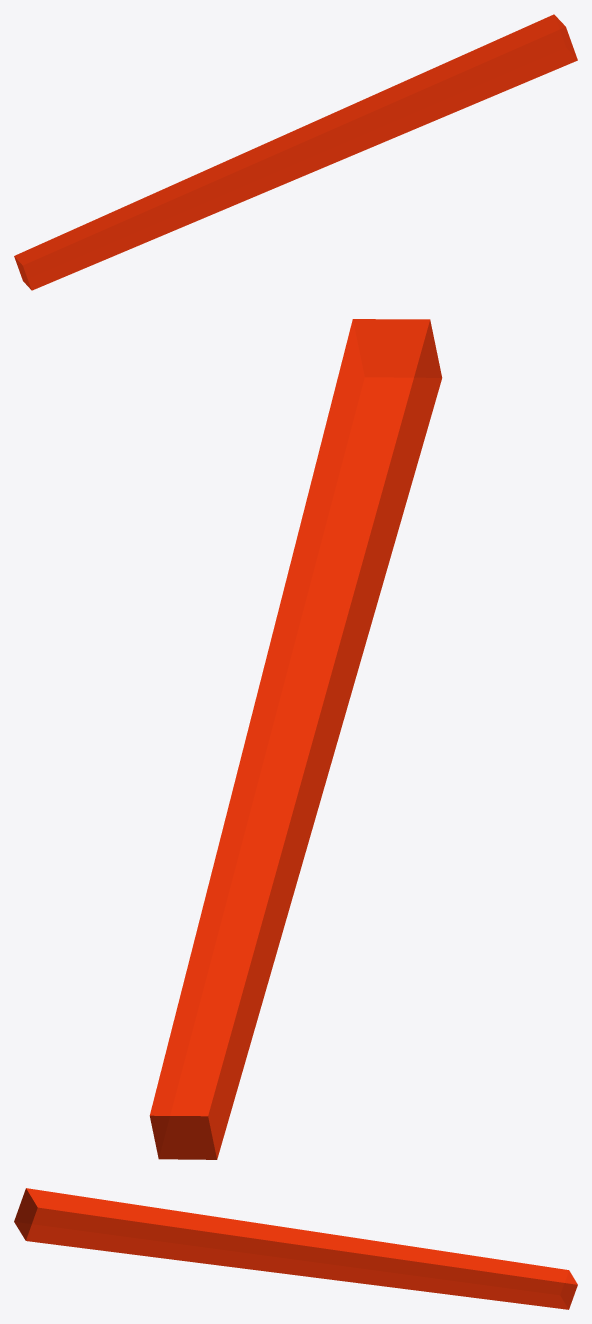
File: Event_420604493_EBrechit_14.fbx
3 views of the same model, one above another, from view 1: azimuth 90°, elevation 25°; view 2: azimuth 150°, elevation 25°; view 3: azimuth 270°, elevation 25° (orthographic). The views are drawn at different scales.
Visible parts, largest first — view 1: Model; view 2: Model; view 3: Model.
Boxes of the visible parts, x1,y1,x2,y2 form: Model: (14, 14, 577, 290); Model: (149, 319, 442, 1159); Model: (14, 1188, 577, 1309).
Size of the model in its own units: 0.4251 by 0.3951 by 1.07.
